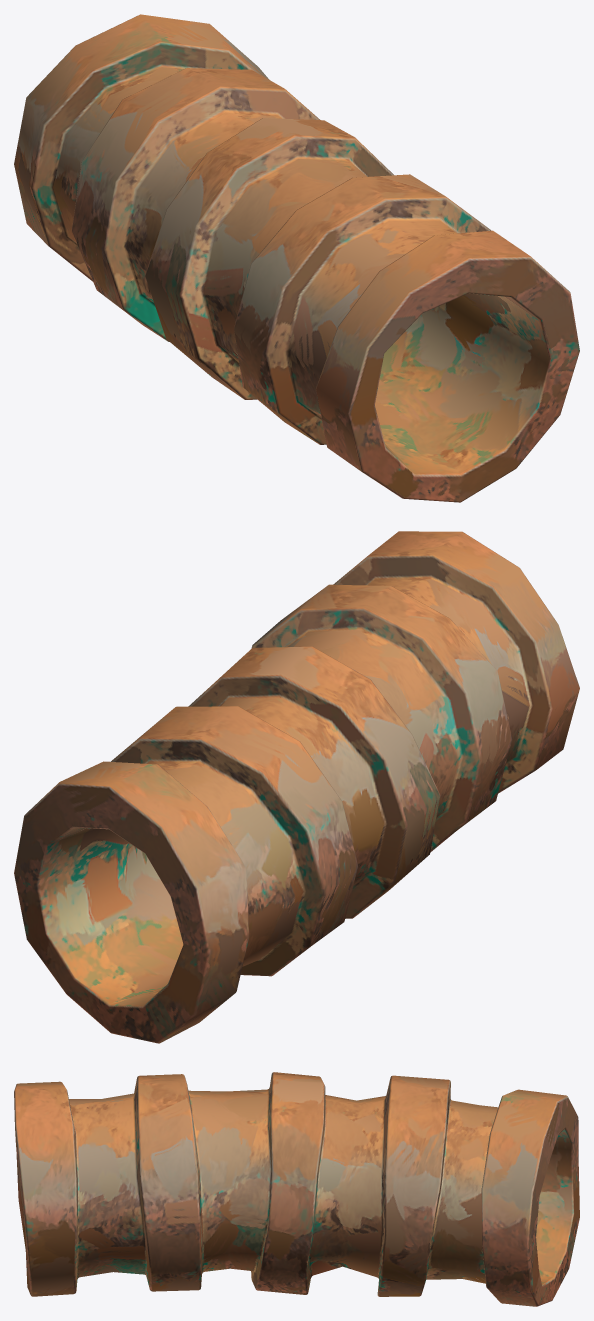
Rendered from pipe_01.gltf.
3 renders of one model, top to bottom at view 1: azimuth 30°, elevation 25°; view 2: azimuth 150°, elevation 25°; view 3: azimuth 270°, elevation 25°, orthographic. The views are drawn at different scales.
Parts seen in each view (by area): view 1: Pipe01; view 2: Pipe01; view 3: Pipe01.
Boxes of the visible parts, x1,y1,x2,y2 form: Pipe01: [14, 14, 579, 502]; Pipe01: [14, 531, 579, 1043]; Pipe01: [14, 1072, 579, 1306].
Bounding box in the file's own units: 5.53 × 5.37 × 13.02.
1 material, 1 textured.
